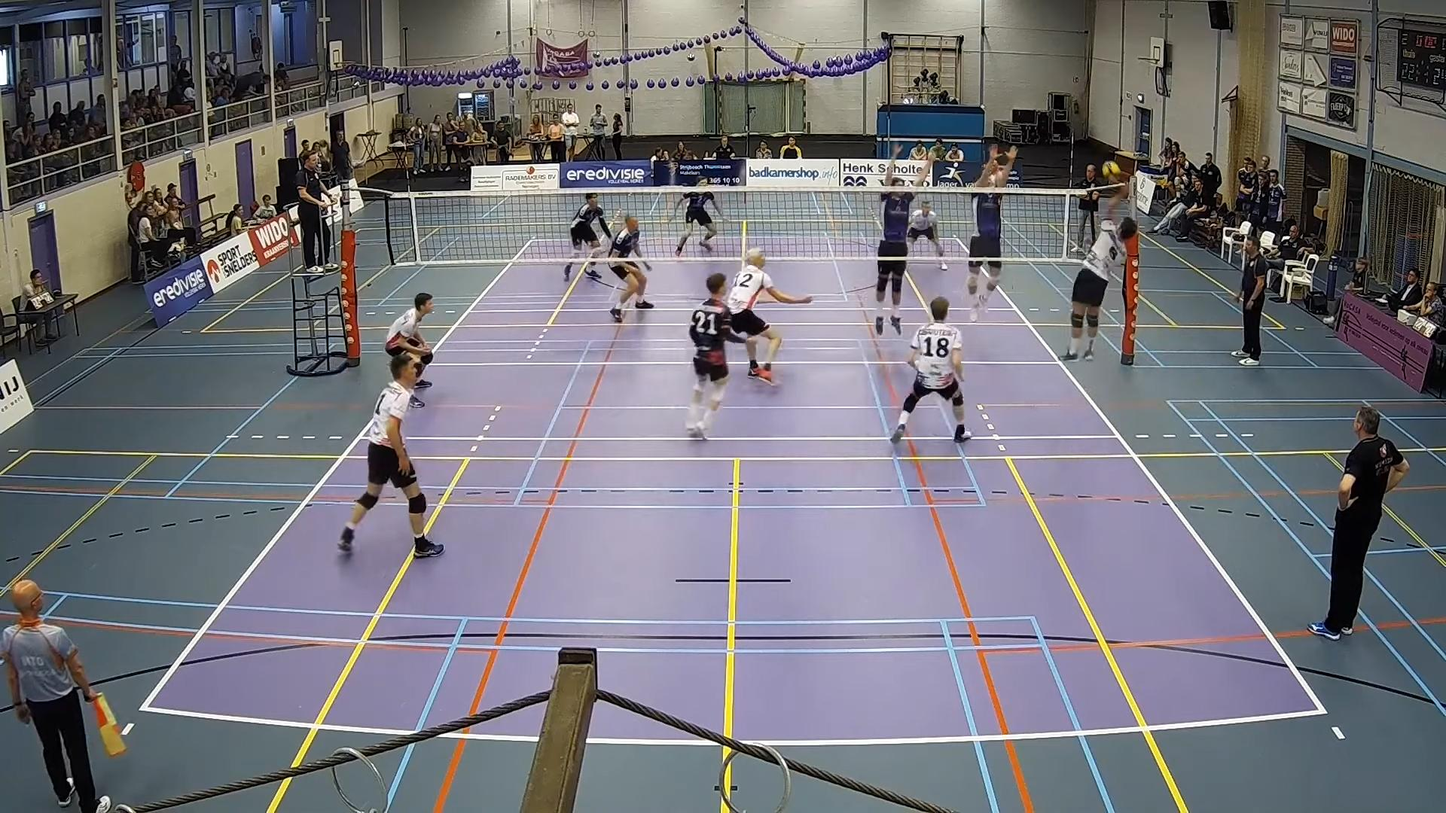attacco: (1065, 190, 1143, 367)
muro: (954, 134, 1031, 328), (870, 138, 940, 344)
